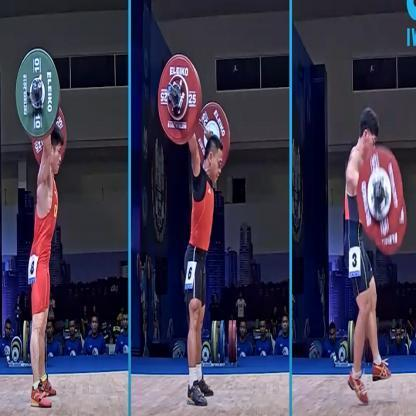barbell: (158, 53, 231, 171), (14, 48, 68, 166), (356, 144, 410, 258)
